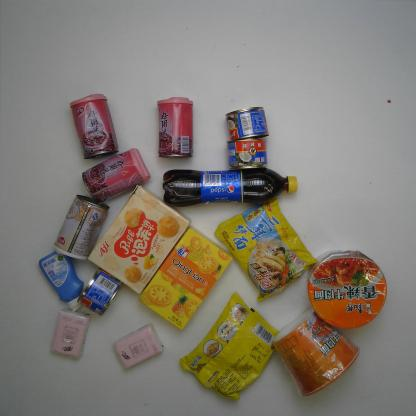Canned Food: (77, 147, 151, 204), (53, 191, 111, 262), (67, 92, 120, 159), (153, 91, 199, 162), (77, 266, 125, 316), (224, 103, 271, 140), (226, 139, 270, 170)
Dessert: (88, 184, 191, 296), (139, 226, 233, 331)
Drink: (161, 167, 299, 206)
Instant Noodles: (216, 198, 320, 302), (181, 292, 282, 399), (270, 304, 362, 399), (308, 249, 384, 331)
Personal Hygiene: (36, 251, 84, 311)
Tissue: (114, 323, 163, 370), (50, 308, 90, 359)
